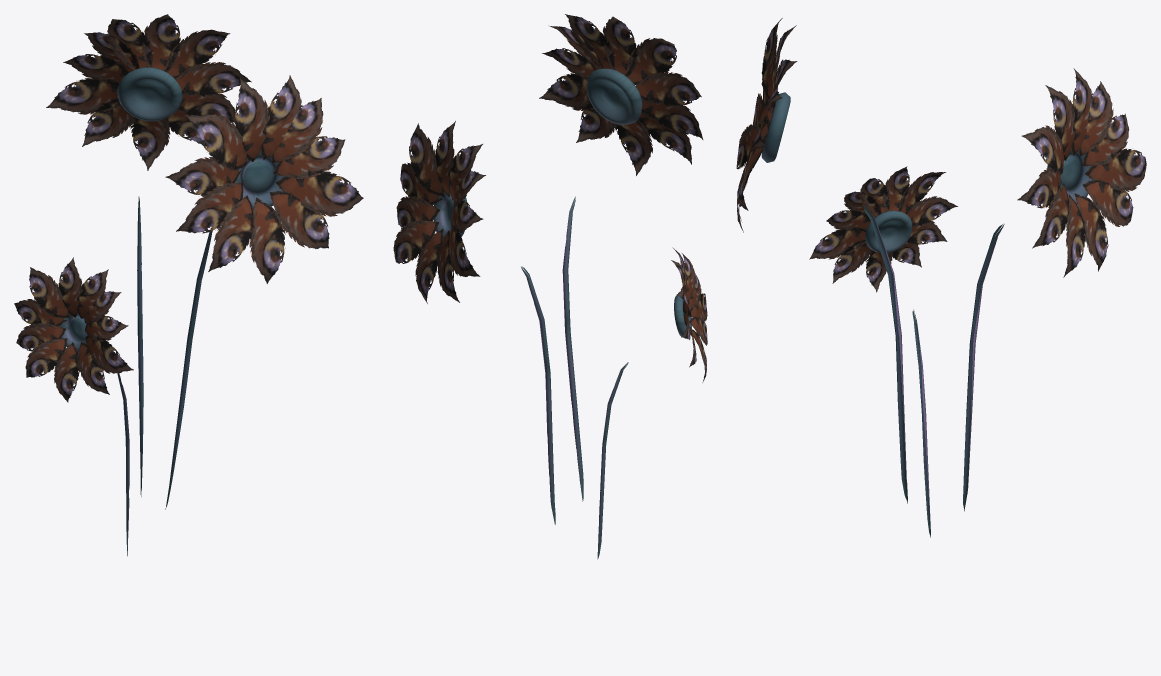
The model's file is Plant2.fbx.
The picture shows the model from 3 angles, left to right: view 1: azimuth 30°, elevation 25°; view 2: azimuth 150°, elevation 25°; view 3: azimuth 270°, elevation 25°; orthographic projection. The views are drawn at different scales.
Visible parts, largest first — view 1: Torus.002; view 2: Torus.002; view 3: Torus.002.
Part boxes in pixels (x1,y1,x2,y2): Torus.002: (14, 14, 363, 556); Torus.002: (393, 14, 707, 559); Torus.002: (736, 18, 1146, 537).
Bounding box in the file's own units: 248 × 541 × 308.
